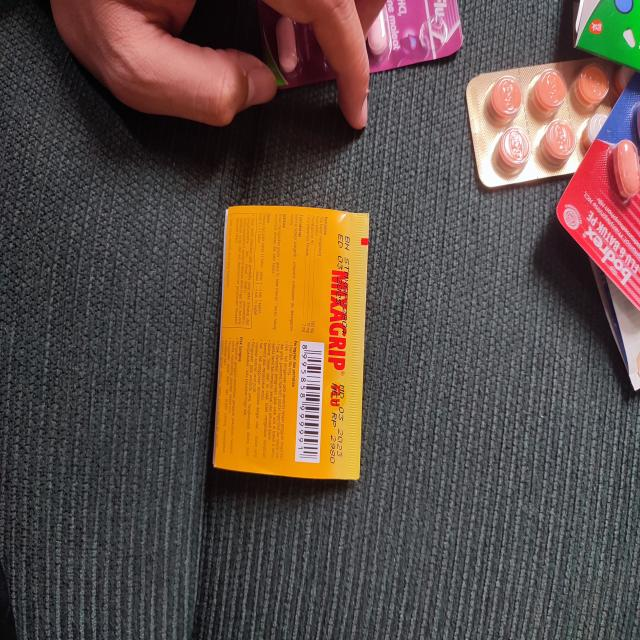B3: (214, 207, 366, 481), (463, 52, 640, 190), (556, 67, 640, 315)
